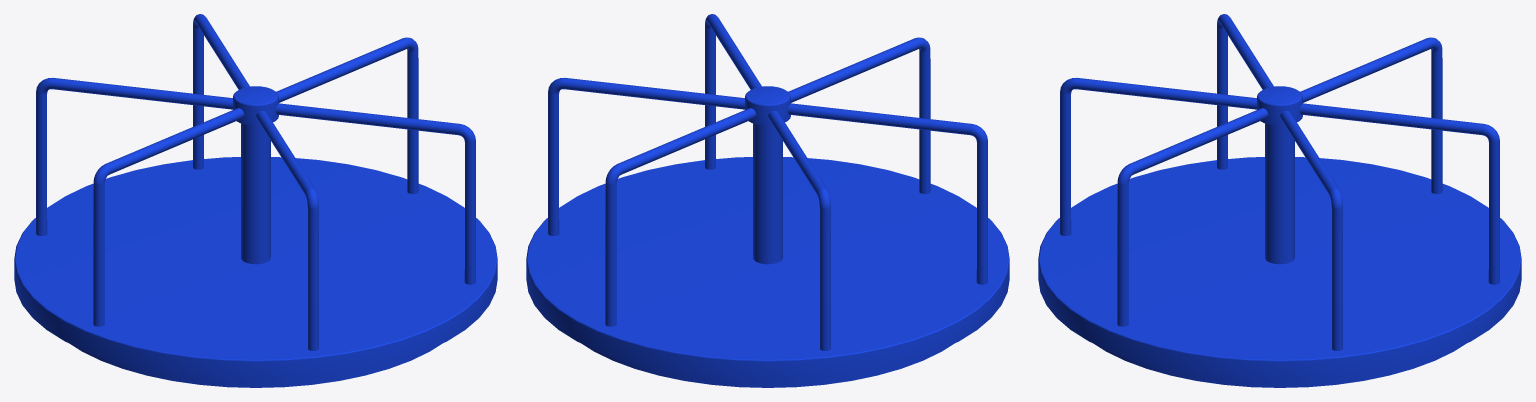
Rendered from Merry-go-round.fbx.
3 views of the same model, side by side, from view 1: azimuth 30°, elevation 25°; view 2: azimuth 150°, elevation 25°; view 3: azimuth 270°, elevation 25° (orthographic).
Visible parts, largest first — view 1: Merry-go-round; view 2: Merry-go-round; view 3: Merry-go-round.
Boxes of the visible parts, left/top/right/bottom form: Merry-go-round: left=14, top=14, right=497, bottom=387; Merry-go-round: left=526, top=14, right=1009, bottom=387; Merry-go-round: left=1038, top=14, right=1521, bottom=387.
Size of the model in its own units: 210 by 210 by 96.
